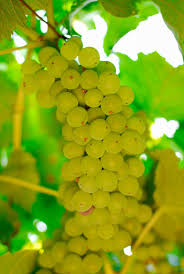grapes: (24, 30, 137, 268)
